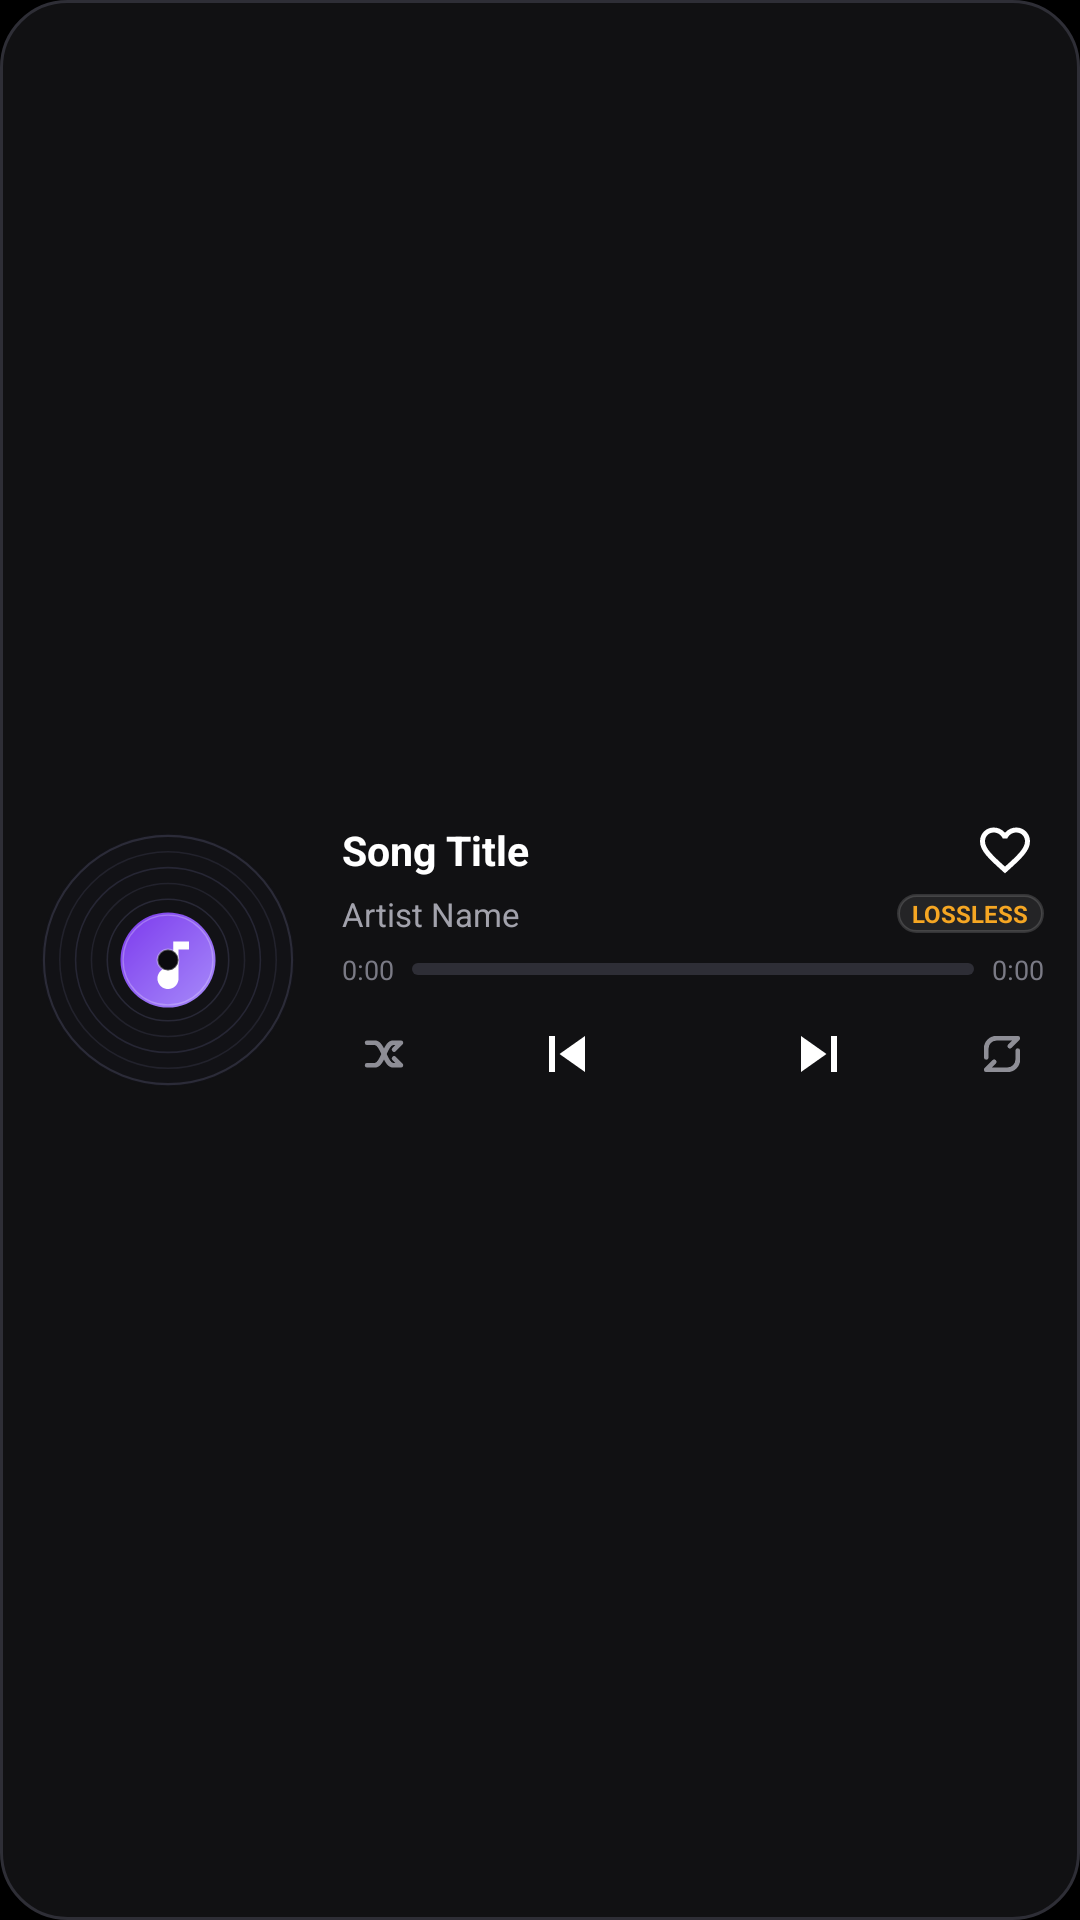

Screen size 1080 × 1920. Icon name, then its center in pixels as point (x, y):
Album Art: point (168, 960)
Favorite: point (1005, 850)
Next: point (819, 1054)
Previous: point (567, 1054)
Repeat: point (1002, 1054)
Shuffle: point (384, 1054)
